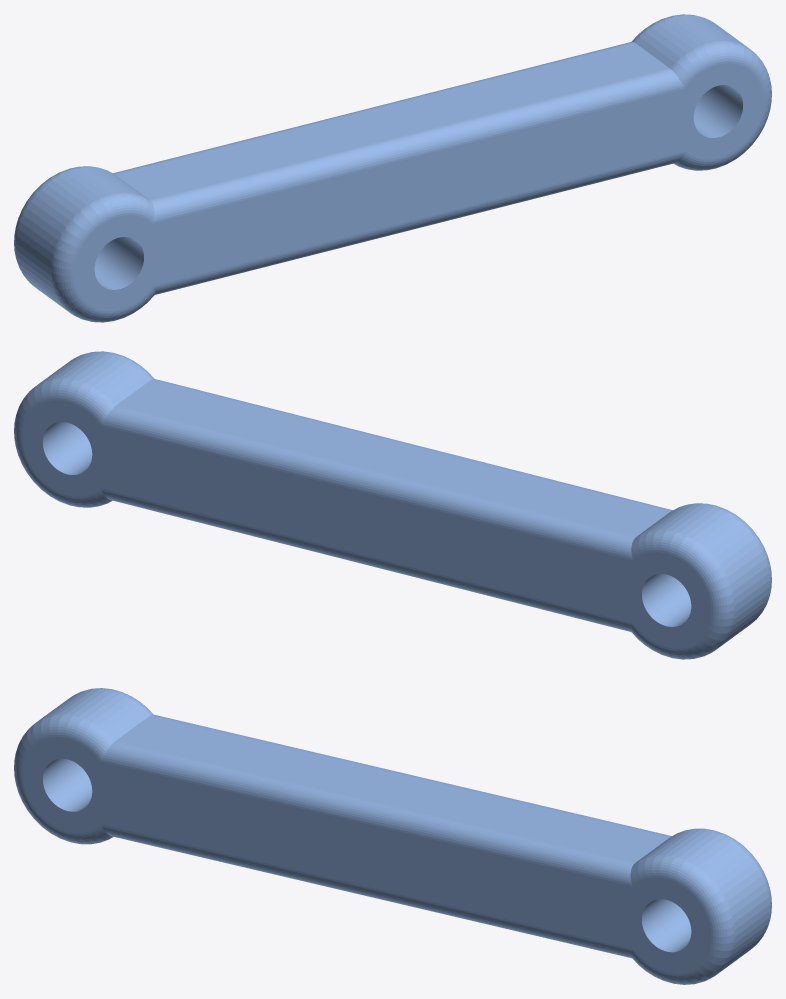
File: gripper_inner_link.dae
3 renders of one model, top to bottom at view 1: azimuth 30°, elevation 25°; view 2: azimuth 150°, elevation 25°; view 3: azimuth 330°, elevation 25°, orthographic.
Visible parts, largest first — view 1: Untitled; view 2: Untitled; view 3: Untitled.
Boxes of the visible parts, x1=… form: Untitled: x1=14, y1=14, x2=771, y2=322; Untitled: x1=14, y1=351, x2=771, y2=659; Untitled: x1=14, y1=688, x2=771, y2=984.
Size of the model in its own units: 0.048 by 0.006 by 0.00835.
